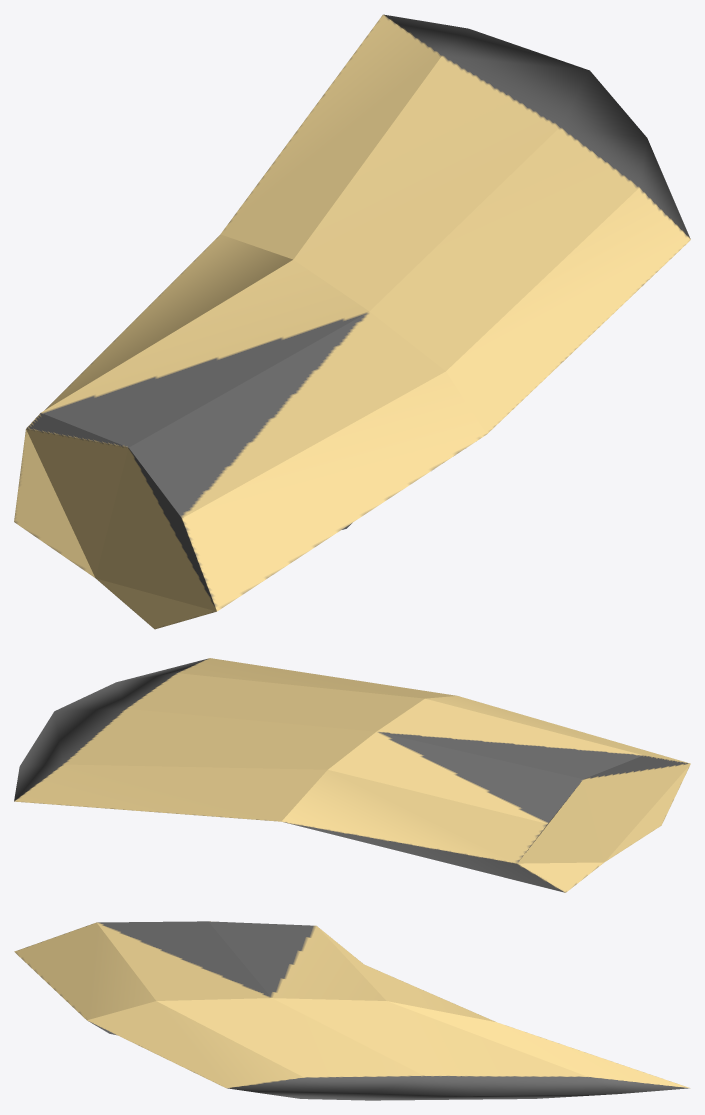
File: wing 2.FBX
The picture shows the model from 3 angles, top to bottom: view 1: azimuth 30°, elevation 25°; view 2: azimuth 150°, elevation 25°; view 3: azimuth 270°, elevation 25°; orthographic projection. The views are drawn at different scales.
Parts seen in each view (by area): view 1: Box001; view 2: Box001; view 3: Box001.
Boxes of the visible parts, x1,y1,x2,y2 form: Box001: (14,14,690,629); Box001: (14,658,690,892); Box001: (14,921,690,1100).
Size of the model in its own units: 84.31 by 24 by 94.35.
1 material, 1 textured.
